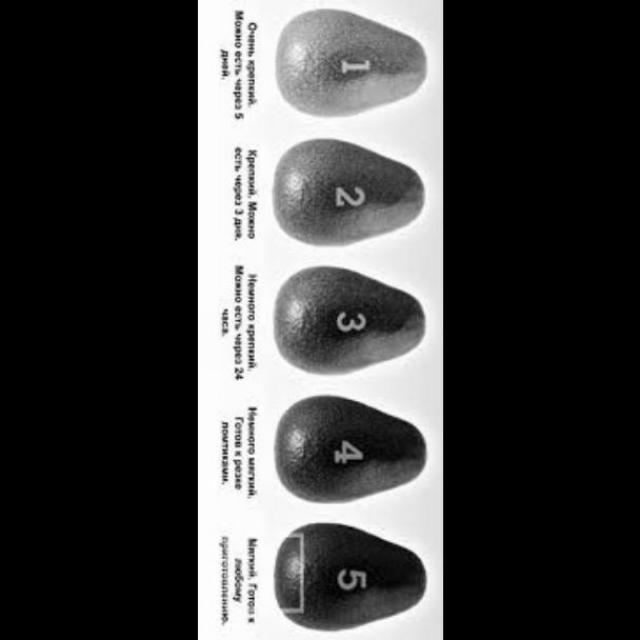avocado: (257, 525, 440, 639), (264, 8, 440, 126), (252, 264, 434, 378), (253, 140, 432, 254), (269, 398, 436, 507)
